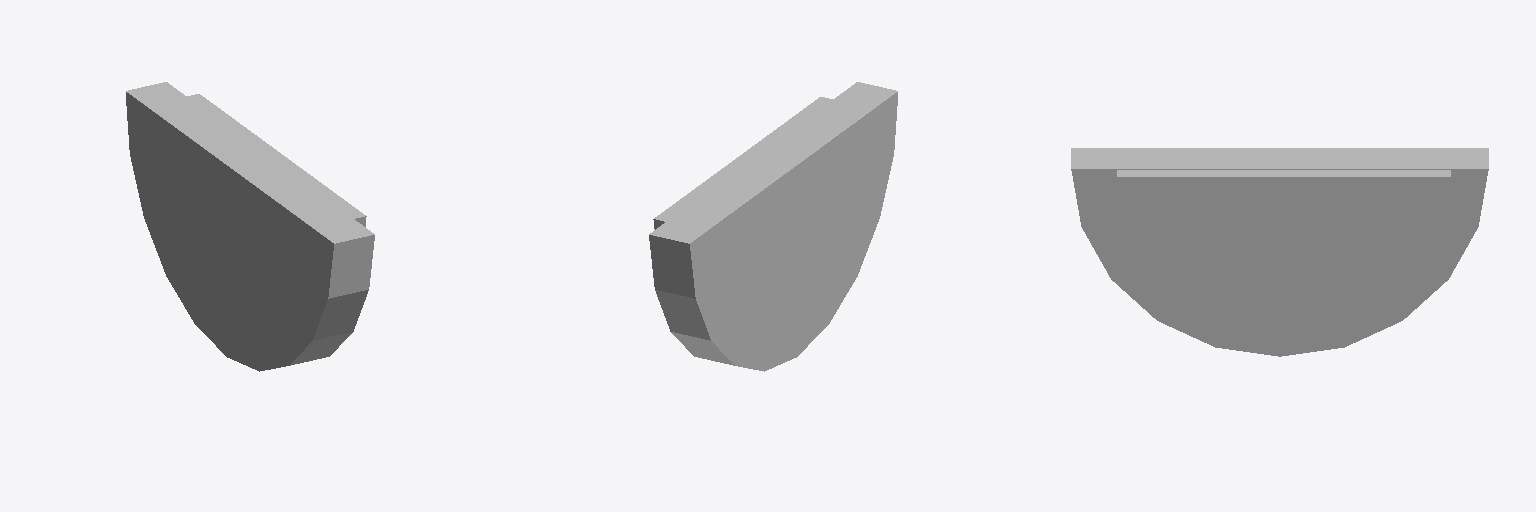
File: ScholarsVR_Smile.obj
3 views of the same model, side by side, from view 1: azimuth 30°, elevation 25°; view 2: azimuth 150°, elevation 25°; view 3: azimuth 270°, elevation 25° (orthographic).
Parts seen in each view (by area): view 1: pCylinder9, pCylinder10; view 2: pCylinder9, pCylinder10; view 3: pCylinder10, pCylinder9.
Part boxes in pixels (x1,y1,x2,y2): pCylinder9: (126, 82, 374, 371); pCylinder10: (187, 94, 366, 226); pCylinder9: (649, 82, 897, 371); pCylinder10: (653, 97, 832, 229); pCylinder10: (1117, 170, 1450, 327); pCylinder9: (1071, 148, 1488, 356).
Bounding box in the file's own units: 0.5467 × 1.71 × 3.42.